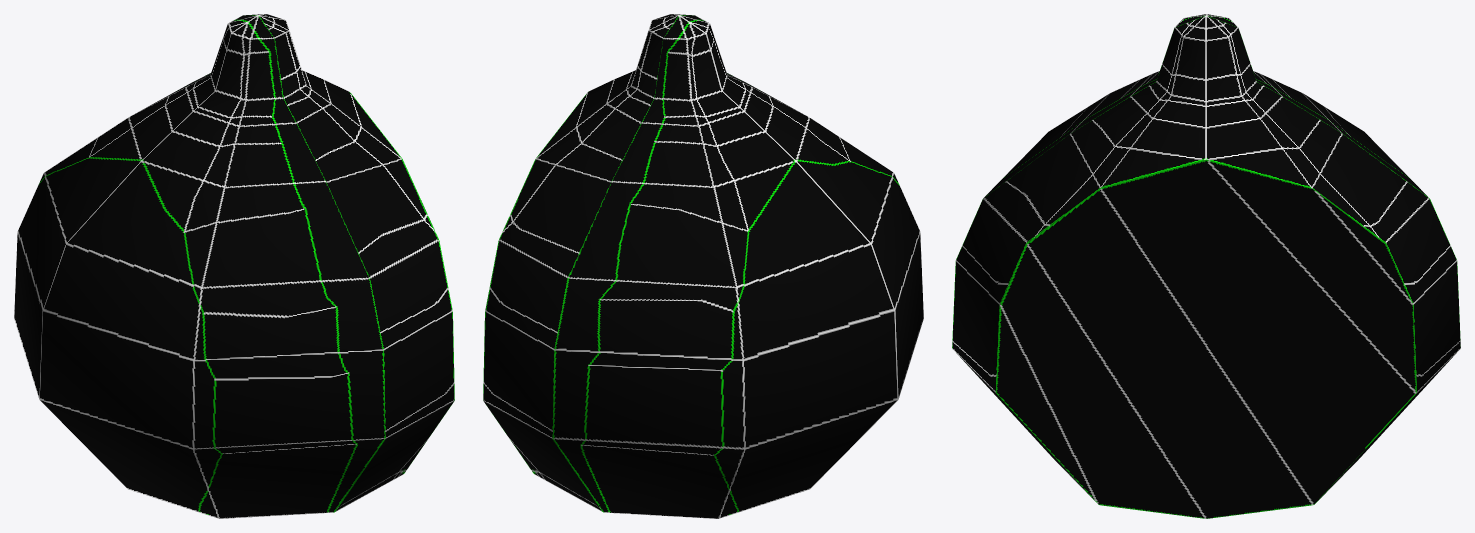
File: asset_ingredient_onion_state2.FBX
3 renders of one model, left to right at view 1: azimuth 30°, elevation 25°; view 2: azimuth 150°, elevation 25°; view 3: azimuth 270°, elevation 25°, orthographic.
Parts seen in each view (by area): view 1: Object001; view 2: Object001; view 3: Object001.
Boxes of the visible parts, x1,y1,x2,y2 form: Object001: [14, 14, 454, 518]; Object001: [483, 14, 923, 518]; Object001: [952, 14, 1460, 518].
Bounding box in the file's own units: 4.7 × 7.07 × 6.64.
